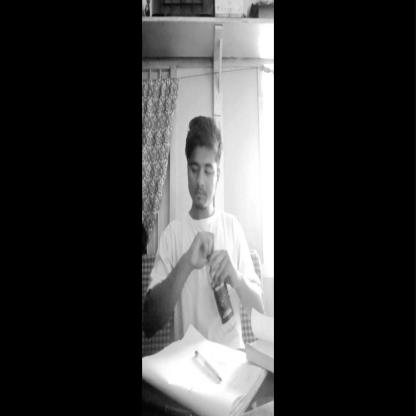Normal: (184, 123, 220, 212)
